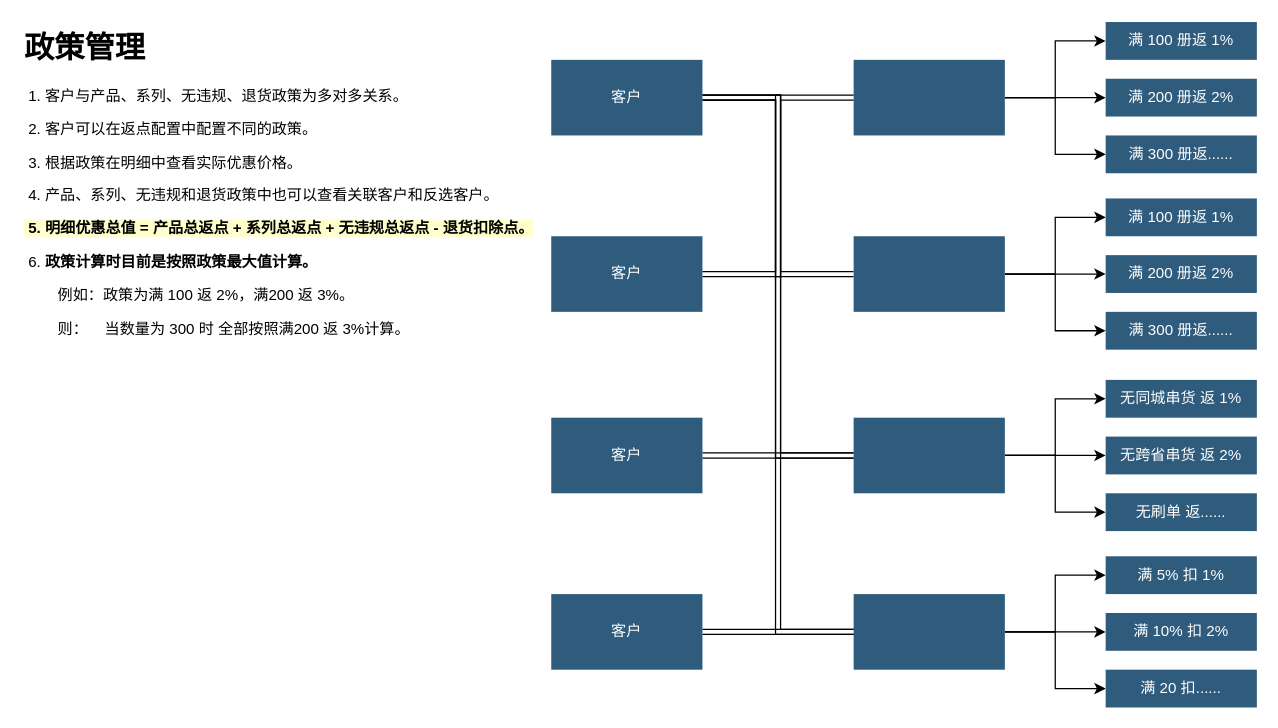
Image size: 1278x728. Some labels were removed from this diagram. The shapes that lost their labels are listed below. From the top down, each one's centre as x and y in pixels, then its label:
At (928,97): "产品政策 (基于单产品)".
At (928,273): "系列政策 (基于单系列)".
At (928,455): "无违规政策 （基于总额）".
At (928,631): "退货政策 （基于总额）".
